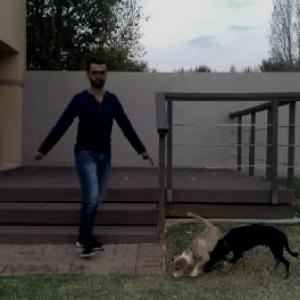land: (29, 60, 151, 262)
